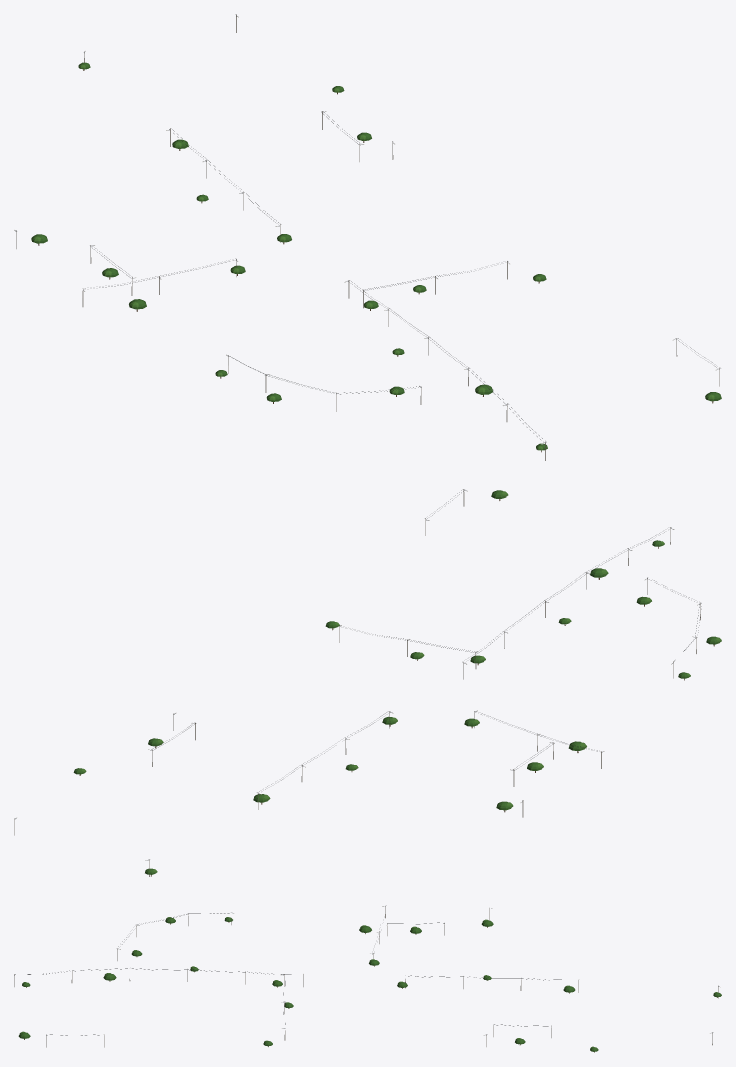
Rendered from n1_poles_3.glb.
The picture shows the model from 3 angles, top to bottom: view 1: azimuth 30°, elevation 25°; view 2: azimuth 150°, elevation 25°; view 3: azimuth 270°, elevation 25°; orthographic projection. The views are drawn at different scales.
Parts seen in each view (by area): view 1: n1_poles_3_lod0; view 2: n1_poles_3_lod0; view 3: n1_poles_3_lod0.
Boxes of the visible parts, left/top/right/bottom form: n1_poles_3_lod0: left=14, top=14, right=721, bottom=460; n1_poles_3_lod0: left=14, top=489, right=721, bottom=876; n1_poles_3_lod0: left=14, top=905, right=721, bottom=1052.
Size of what is drawn, in the model's own units: 216 by 16.17 by 465.
